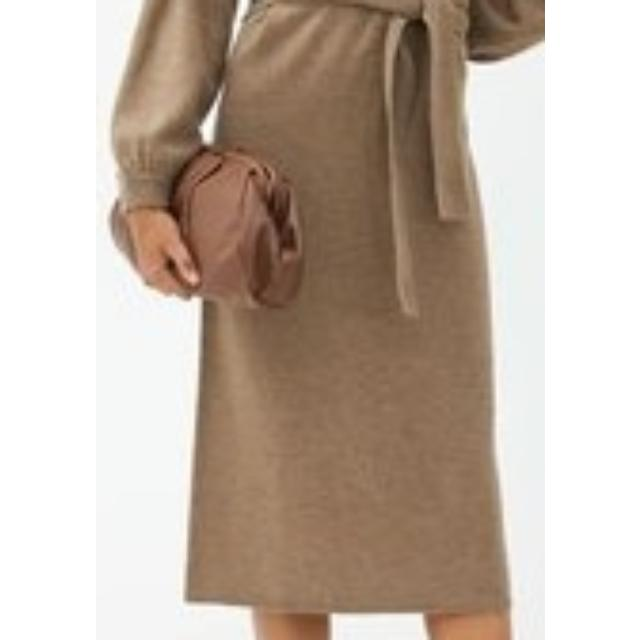wool: (103, 0, 544, 152)
